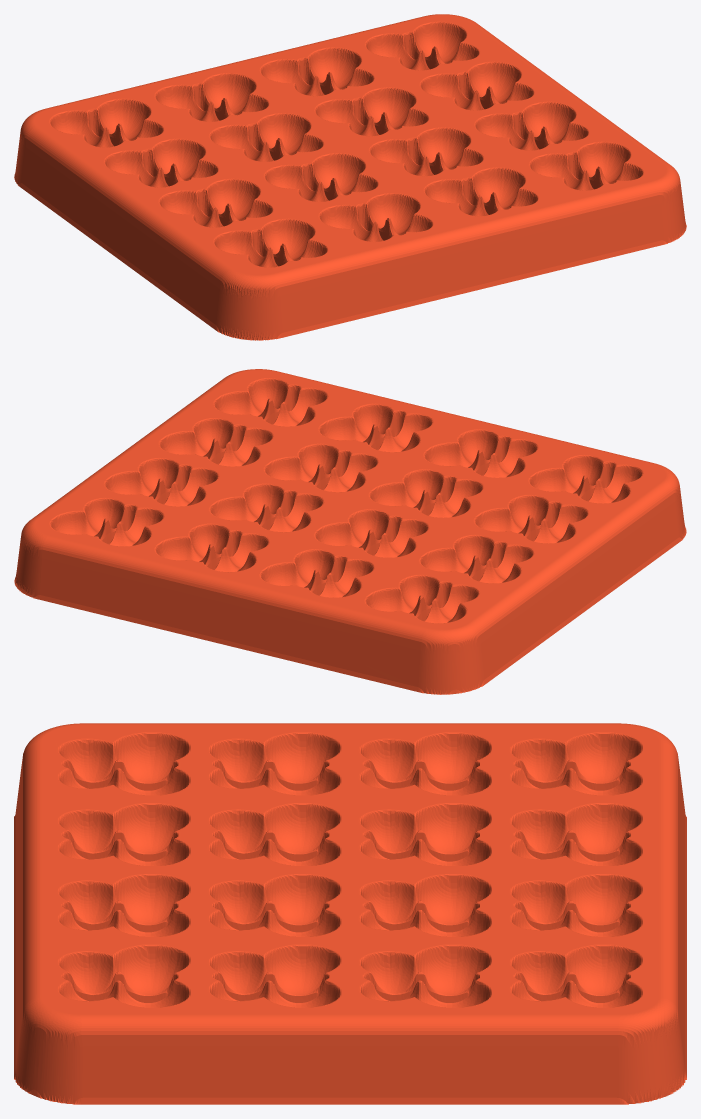
File: mold.glb
3 renders of one model, top to bottom at view 1: azimuth 30°, elevation 25°; view 2: azimuth 150°, elevation 25°; view 3: azimuth 270°, elevation 25°, orthographic. The views are drawn at different scales.
Parts seen in each view (by area): view 1: geometry_0; view 2: geometry_0; view 3: geometry_0.
Boxes of the visible parts, box(x1,y1,x2,y2) form: geometry_0: box(14, 14, 686, 340); geometry_0: box(14, 369, 686, 694); geometry_0: box(14, 723, 686, 1104).
Bounding box in the file's own units: 0.0972 × 0.0113 × 0.0884.
